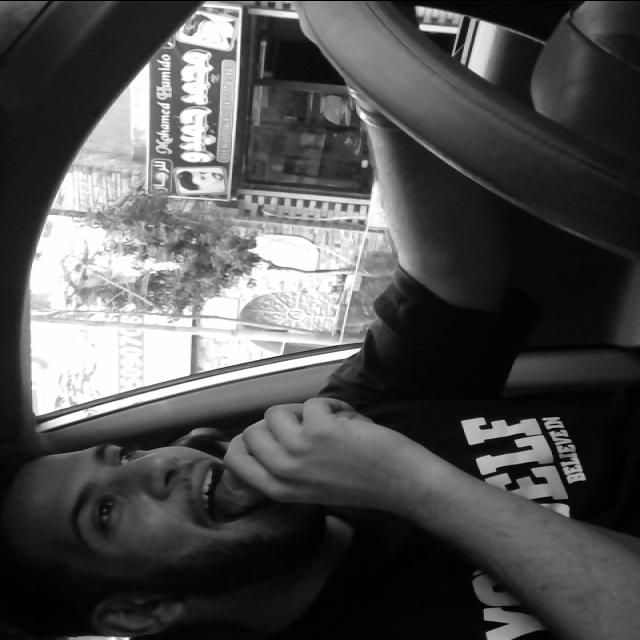eating: (175, 392, 394, 530)
